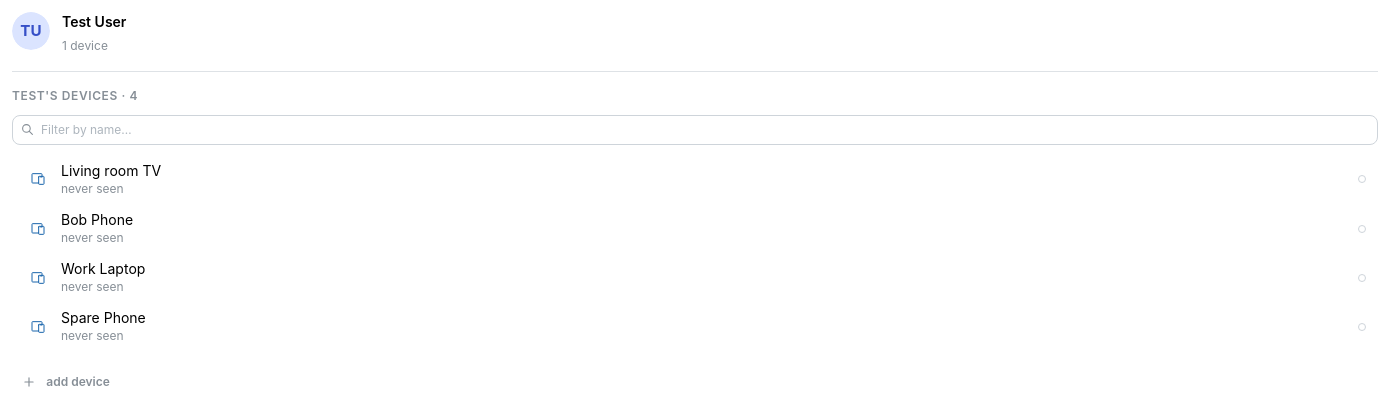
it: OwnerDevicesPanel › name filter › shows a no-match message when nothing matches
Step 1. Type "zzz" into the field with placeholder "Filter by name…" → (695, 130), box [12, 115, 1378, 145]
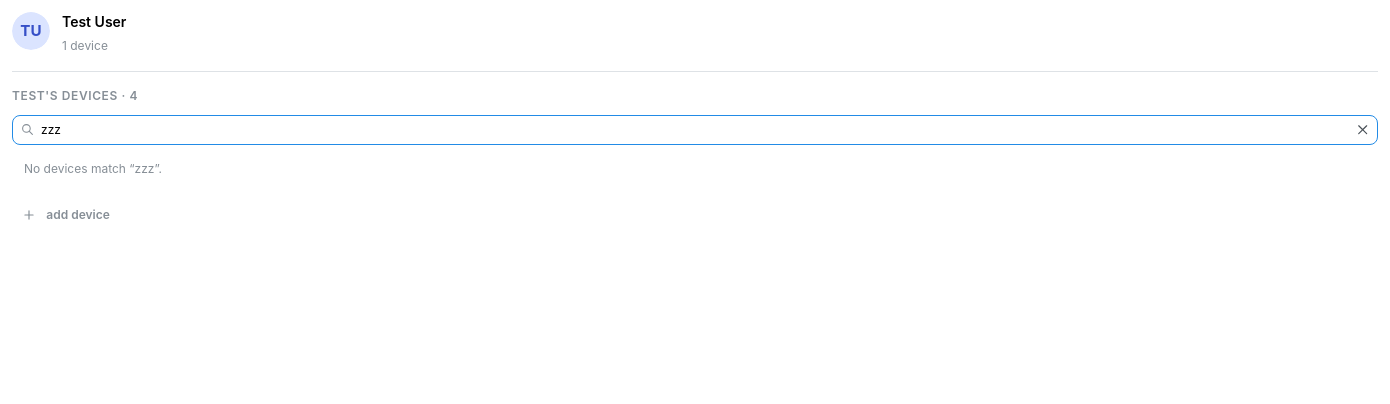
Expected: the text "No devices match “zzz”." is shown, [24, 161, 162, 176]
